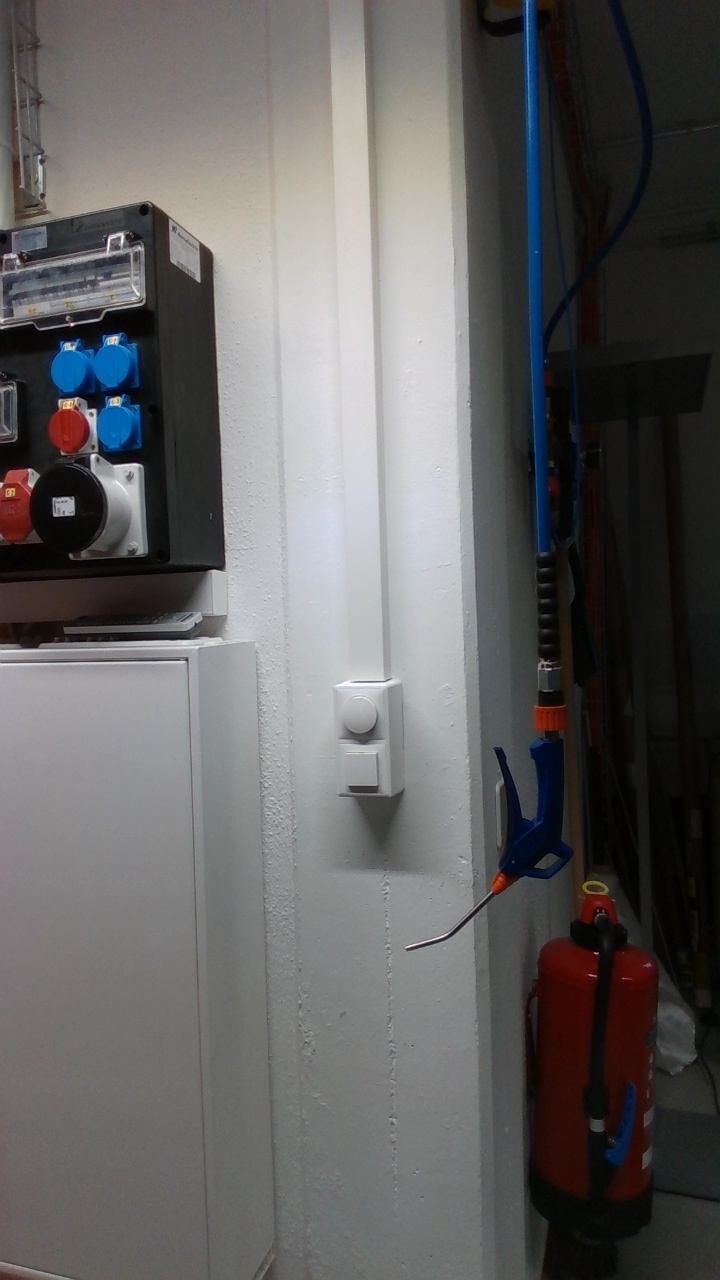Light_Switch: (331, 686, 391, 744), (334, 740, 391, 795)
